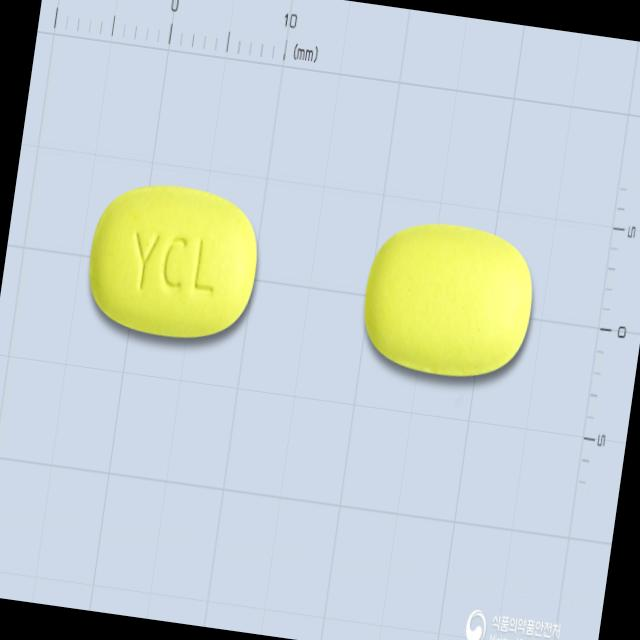Youngpoong Clarithromycin Tab: (80, 176, 266, 349)
